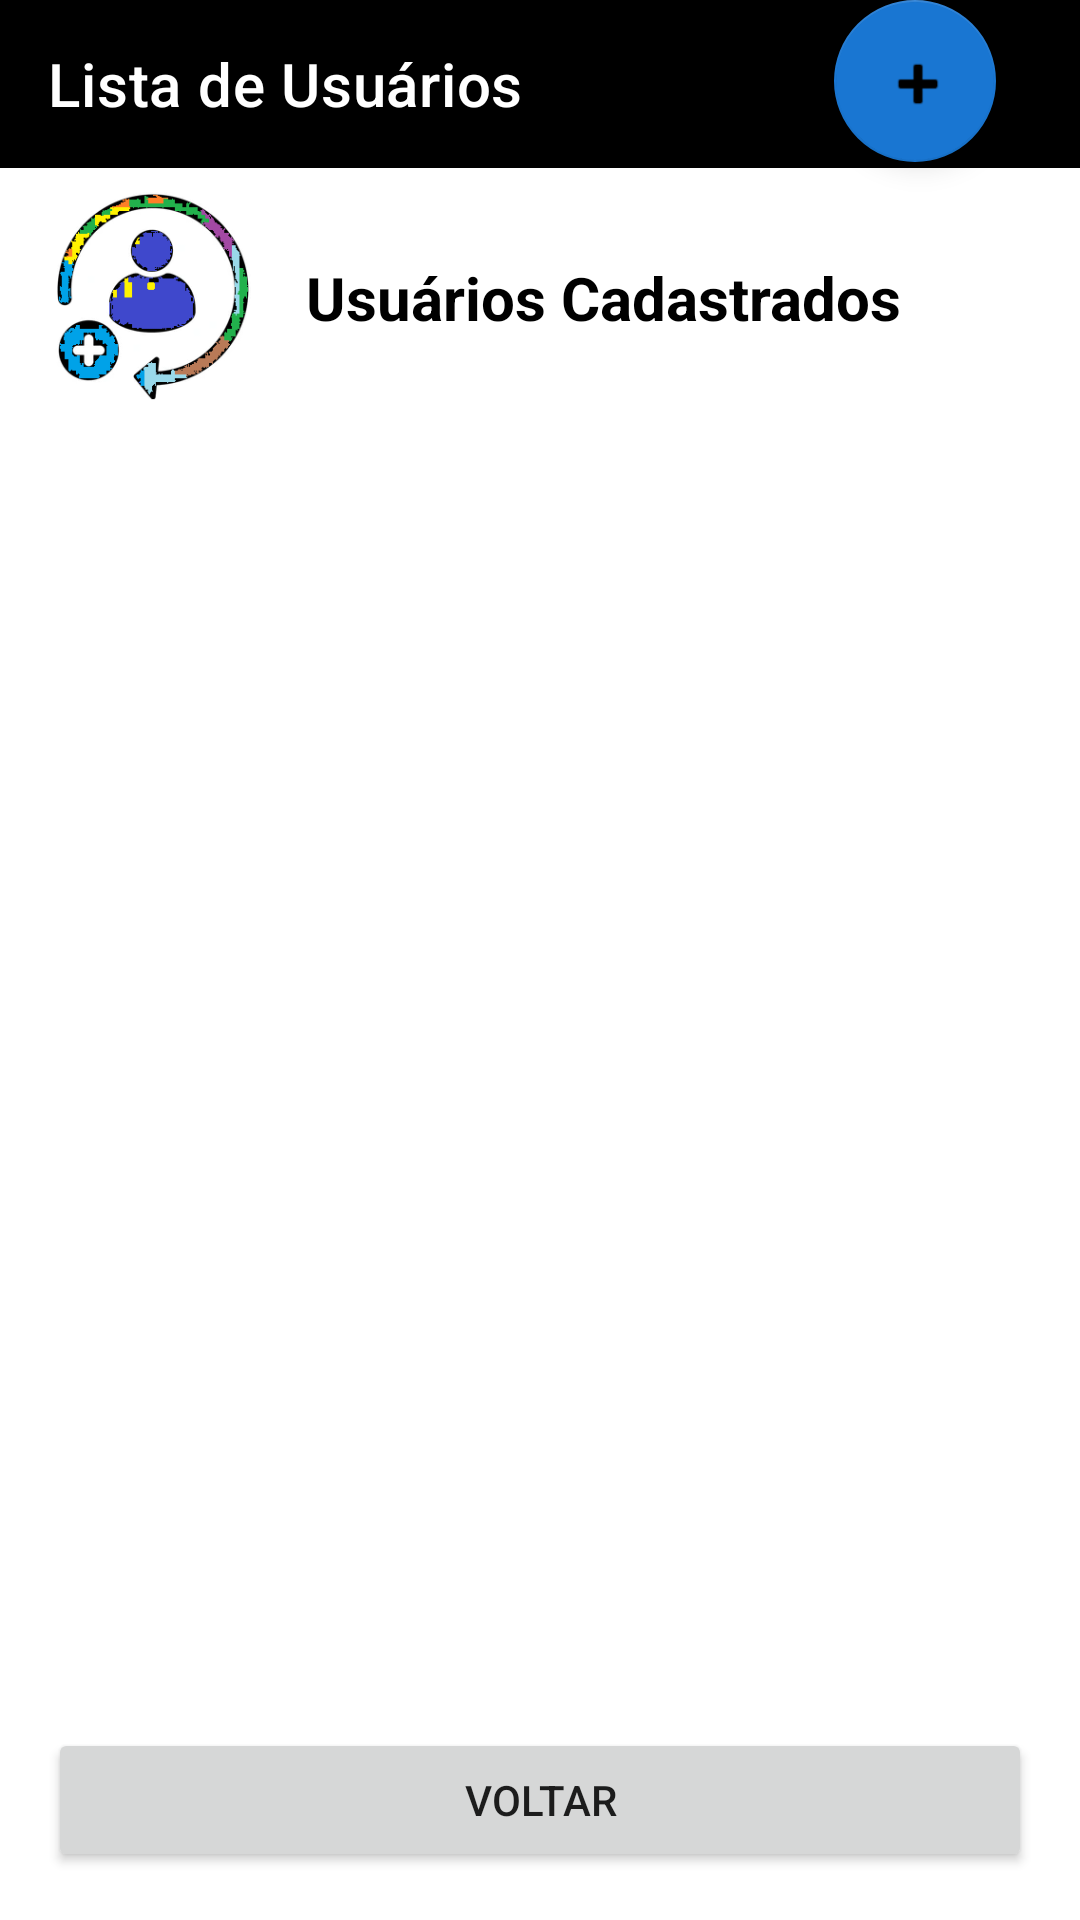

Icons on this 1080*1920 Android screen, each with the point to tap as point (x, y):
Novo item: point (915, 81)
plususer: point (153, 297)
